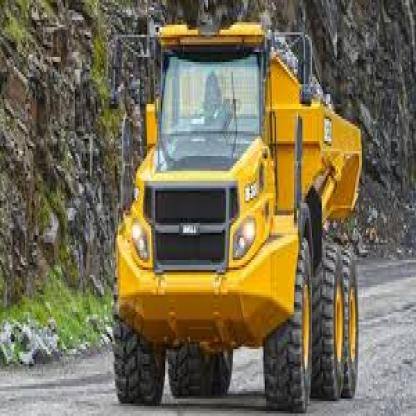dump_truck: (95, 12, 375, 414)
